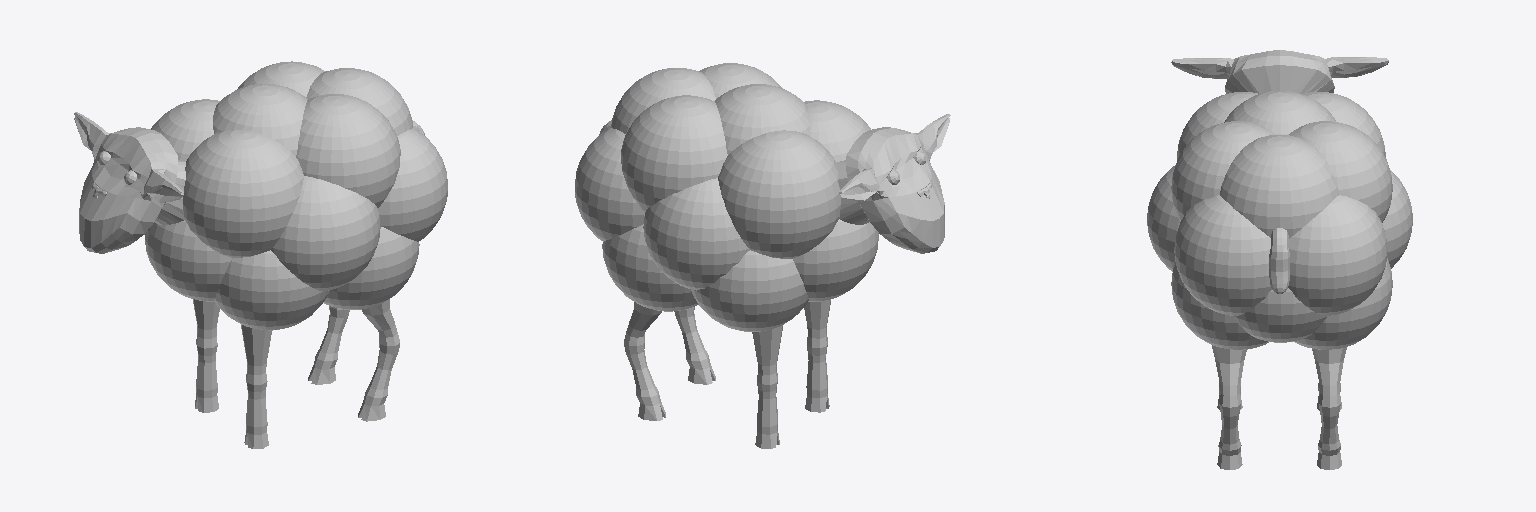
File: Sheep.obj
3 renders of one model, left to right at view 1: azimuth 30°, elevation 25°; view 2: azimuth 150°, elevation 25°; view 3: azimuth 270°, elevation 25°, orthographic.
Visible parts, largest first — view 1: Sphere.015_Sphere.019, Plane.001, Sphere.010_Sphere.014, Sphere.005, Sphere.008_Sphere.021, Sphere.004, Sphere.017_Sphere.023, Sphere.000_Sphere.009, Sphere.011_Sphere.015, Sphere.007_Sphere.010, Cylinder, Cylinder.002 (+4 smaller); view 2: Sphere.014_Sphere.018, Plane.001, Sphere.006, Sphere.009_Sphere.013, Sphere.016_Sphere.022, Sphere.002, Sphere.017_Sphere.023, Sphere.000_Sphere.009, Sphere.012_Sphere.016, Sphere.007_Sphere.010, Cylinder.001, Cylinder.003 (+4 smaller); view 3: Sphere.002, Sphere.004, Sphere.007_Sphere.010, Plane.001, Sphere.006, Sphere.005, Sphere.003_Sphere.011, Sphere.012_Sphere.016, Sphere.000_Sphere.009, Sphere.011_Sphere.015, Cylinder.002, Cylinder.003 (+5 smaller).
Part boxes in pixels (x1,y1,x2,y2): Sphere.015_Sphere.019: (183,129,303,257); Plane.001: (74,112,185,253); Sphere.010_Sphere.014: (271,176,380,290); Sphere.005: (296,94,400,207); Sphere.008_Sphere.021: (214,250,329,330); Sphere.004: (378,128,447,241); Sphere.017_Sphere.023: (144,220,231,301); Sphere.000_Sphere.009: (213,84,307,155); Sphere.011_Sphere.015: (323,227,419,309); Sphere.007_Sphere.010: (306,68,412,135); Cylinder: (241,325,271,448); Cylinder.002: (358,299,399,421); Sphere.014_Sphere.018: (718,130,840,258); Plane.001: (837,114,950,253); Sphere.006: (621,95,727,211); Sphere.009_Sphere.013: (643,178,749,290); Sphere.016_Sphere.022: (691,250,808,331); Sphere.002: (575,128,644,241); Sphere.017_Sphere.023: (793,219,878,301); Sphere.000_Sphere.009: (715,84,809,154); Sphere.012_Sphere.016: (602,224,698,311); Sphere.007_Sphere.010: (611,68,715,133); Cylinder.001: (752,324,783,448); Cylinder.003: (624,302,665,420); Sphere.002: (1288,195,1387,315); Sphere.004: (1174,195,1271,315); Sphere.007_Sphere.010: (1220,135,1338,238); Plane.001: (1171,50,1388,93); Sphere.006: (1289,121,1392,222); Sphere.005: (1171,121,1274,220); Sphere.003_Sphere.011: (1234,288,1326,342); Sphere.012_Sphere.016: (1293,258,1392,349); Sphere.000_Sphere.009: (1224,91,1335,134); Sphere.011_Sphere.015: (1171,262,1268,349); Cylinder.002: (1212,345,1246,469); Cylinder.003: (1312,347,1346,469).
Bounding box in the file's own units: 4.78 × 4.36 × 3.21.